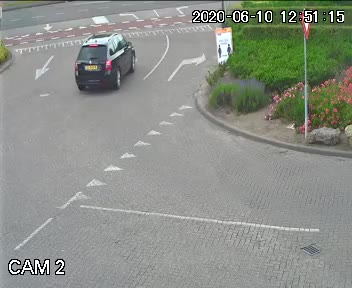car: (70, 26, 136, 97)
